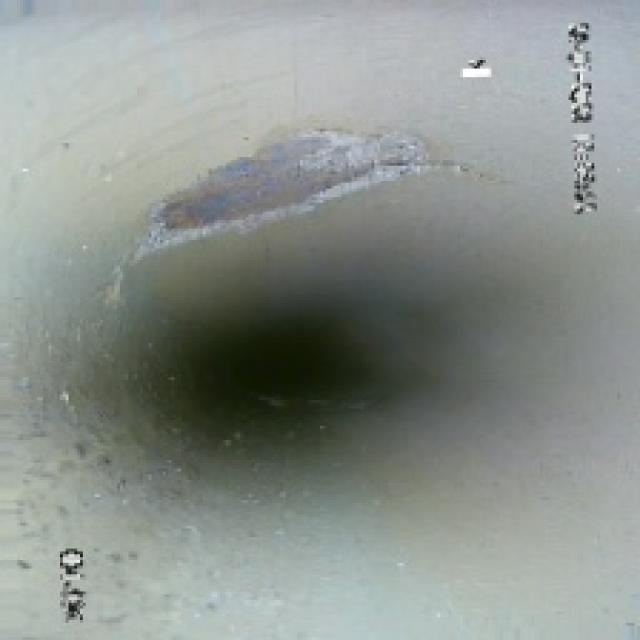pipe_surface_damage: (123, 117, 428, 240)
